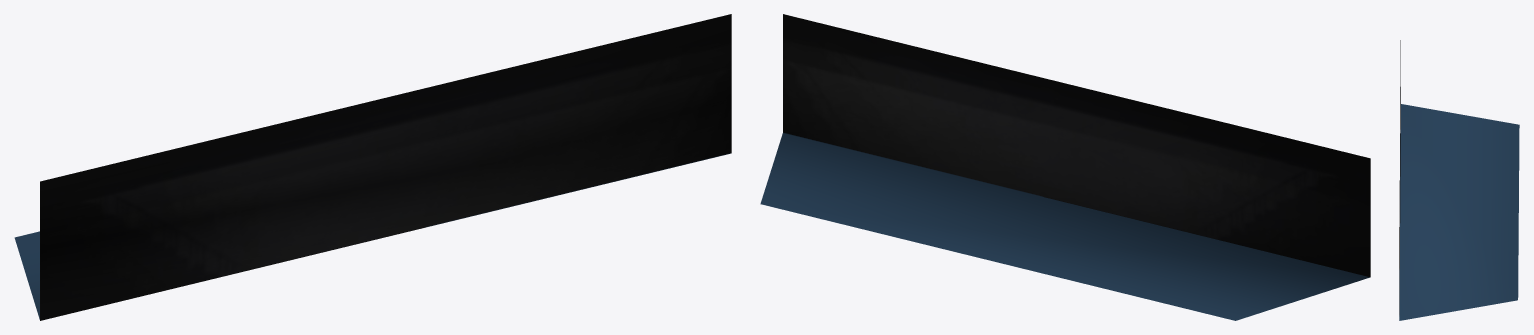
Rendered from FUS0110006.fbx.
3 renders of one model, left to right at view 1: azimuth 30°, elevation 25°; view 2: azimuth 150°, elevation 25°; view 3: azimuth 270°, elevation 25°, orthographic. The views are drawn at different scales.
Parts seen in each view (by area): view 1: smFUS0110006; view 2: smFUS0110006; view 3: smFUS0110006.
Boxes of the visible parts, x1,y1,x2,y2 form: smFUS0110006: [14, 14, 731, 320]; smFUS0110006: [760, 14, 1370, 320]; smFUS0110006: [1399, 40, 1519, 320].
Bounding box in the file's own units: 3607 × 697 × 843.
1 material, 1 textured.
